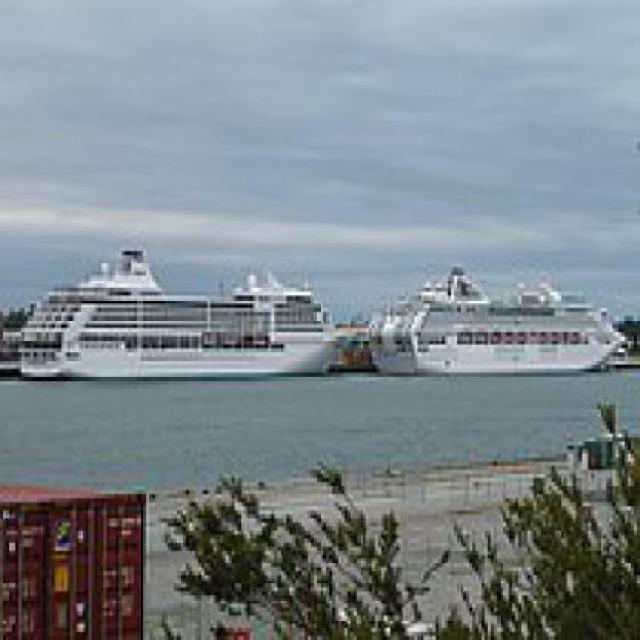cruise: (10, 232, 352, 390), (364, 252, 638, 398)
